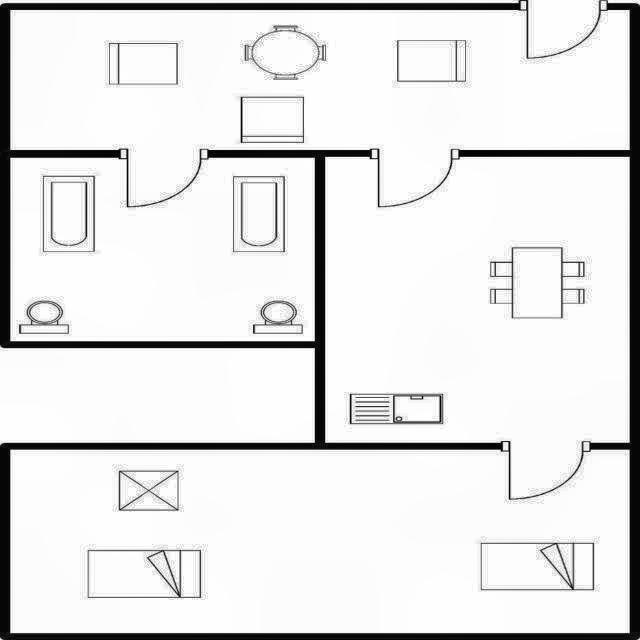room: (10, 451, 630, 632), (326, 157, 630, 442), (12, 10, 630, 149), (10, 158, 314, 342)
